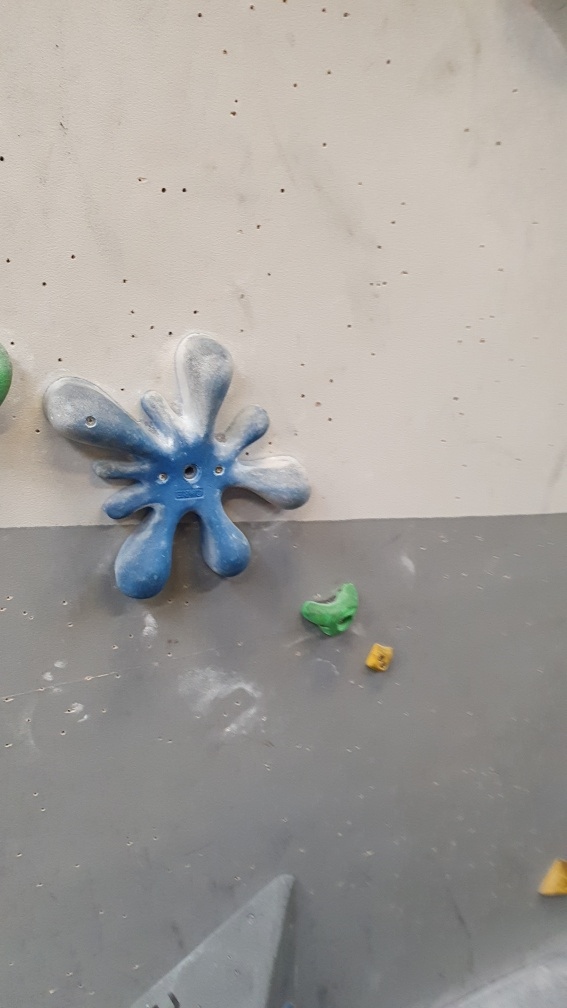Jug: (300, 573, 359, 639)
Octopus Pinch: (36, 331, 314, 614)
